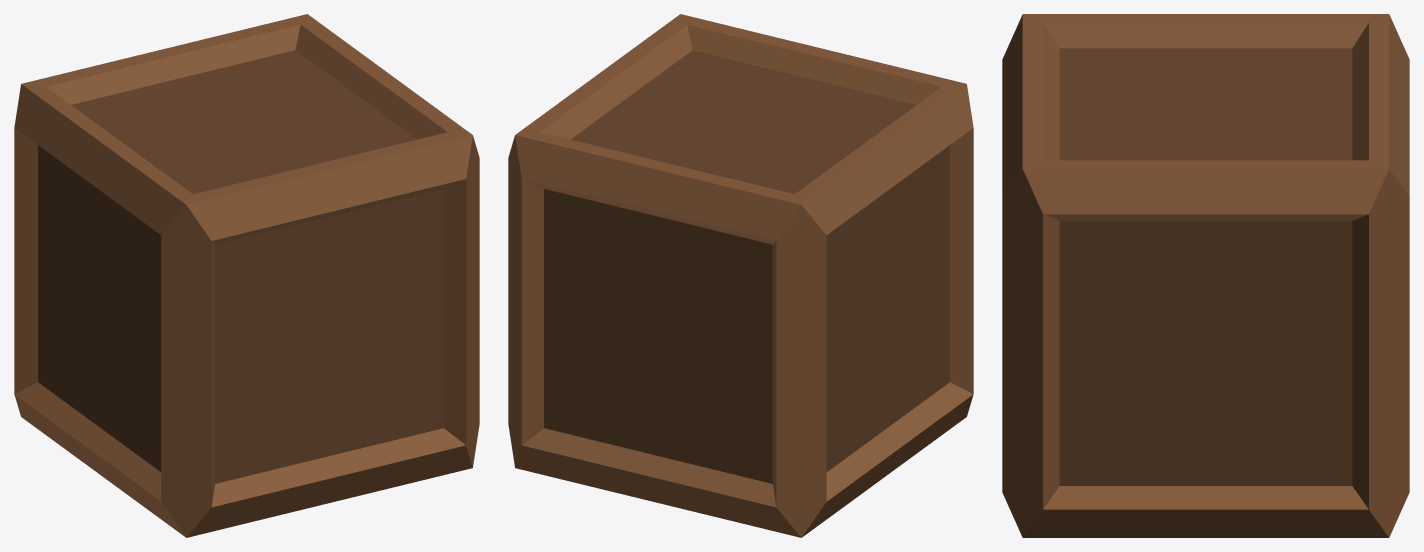
3 views of the same model, side by side, from view 1: azimuth 30°, elevation 25°; view 2: azimuth 150°, elevation 25°; view 3: azimuth 270°, elevation 25° (orthographic). The views are drawn at different scales.
Visible parts, largest first — view 1: Box; view 2: Box; view 3: Box.
Part boxes in pixels (x1,y1,x2,y2): Box: (14,14,479,537); Box: (508,14,973,537); Box: (1002,14,1409,537).
Bounding box in the file's own units: 150 × 150 × 150.
